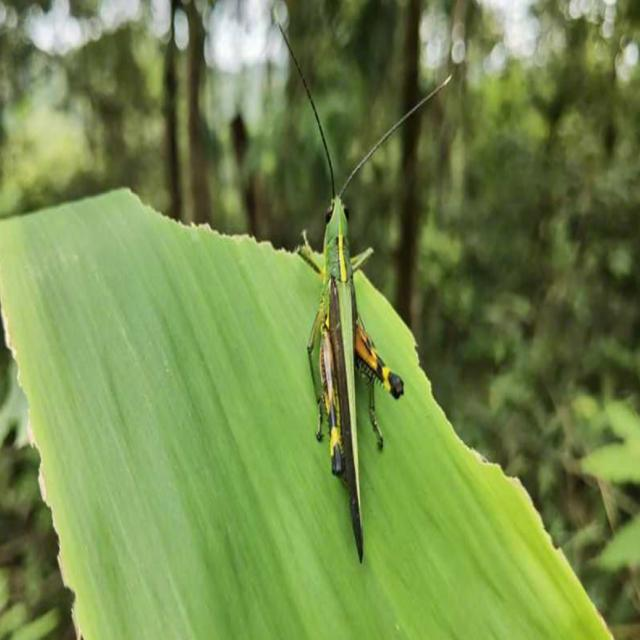ZhaMeng: (286, 184, 410, 565)
